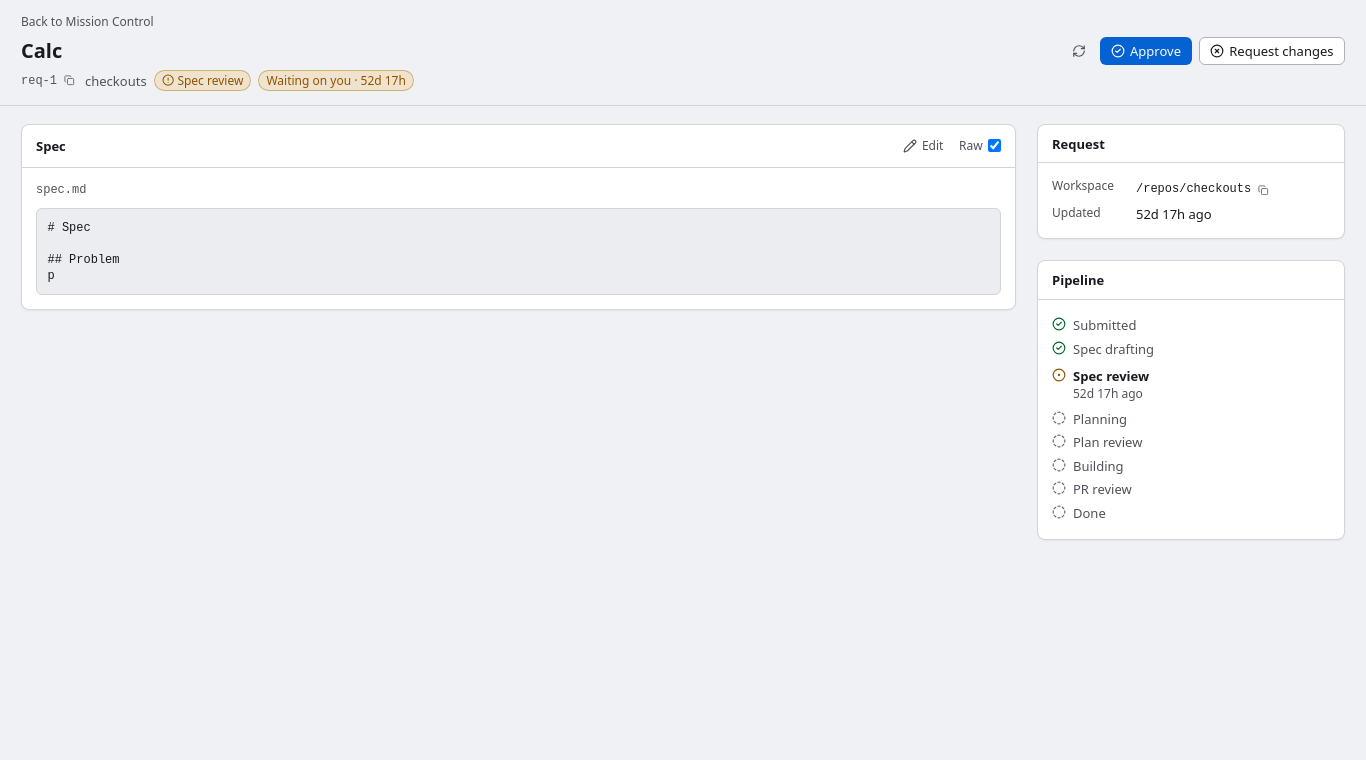
Scenario: a missing section says so and has no Edit
Expected: the heading "Calc" is shown, [21,37,62,64]
Expected: the button "Approve" is enabled, [1100,37,1192,65]
Click the button "Edit" at (923, 146), box [894,134,952,158]
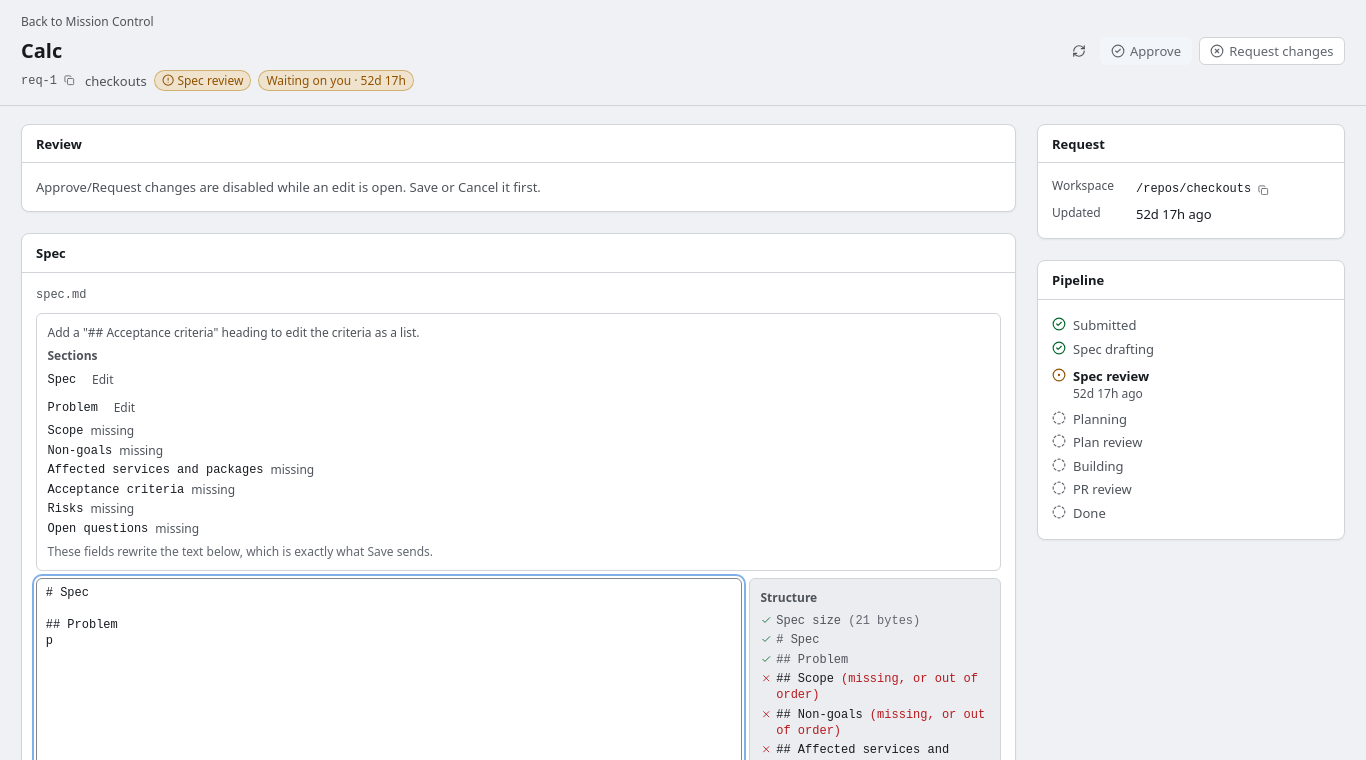
Expected: the 1st text "missing" is shown, [90,423,134,439]
Expected: the button with aria-label "Edit section Problem" is shown, [105,395,144,420]
